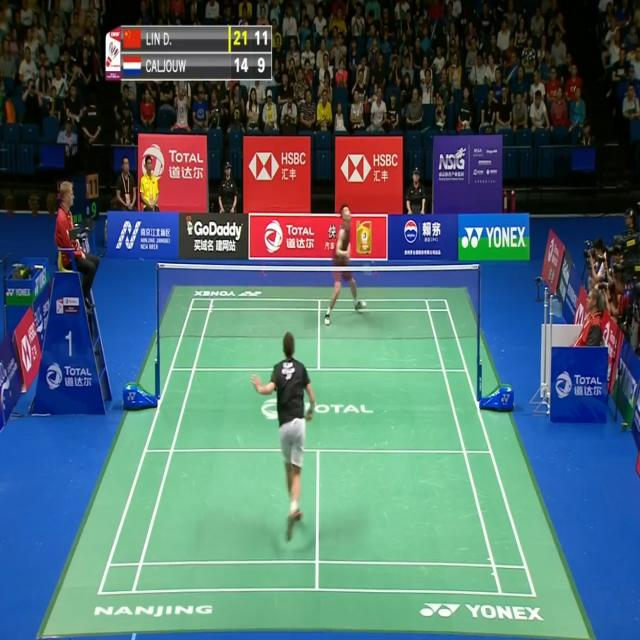Player1: (250, 323, 318, 540)
Player2: (321, 196, 367, 326)
